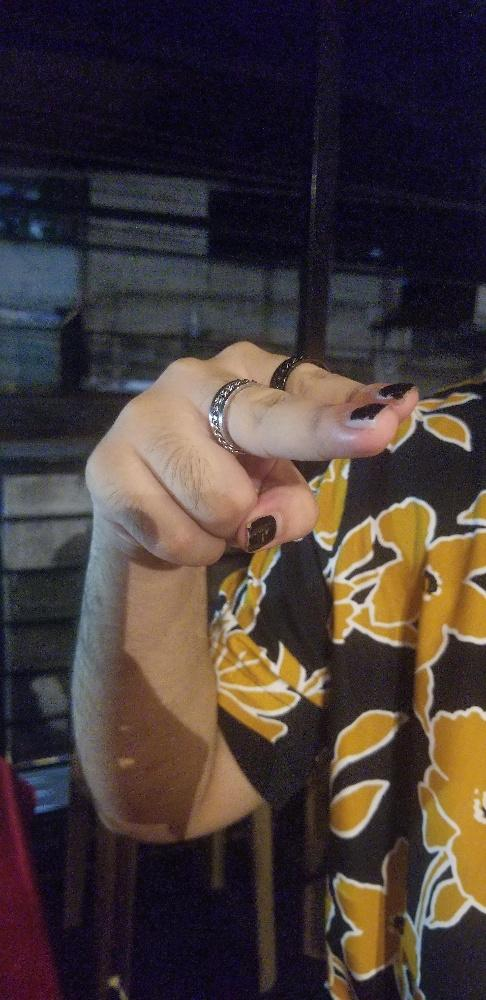n: (84, 341, 426, 572)
